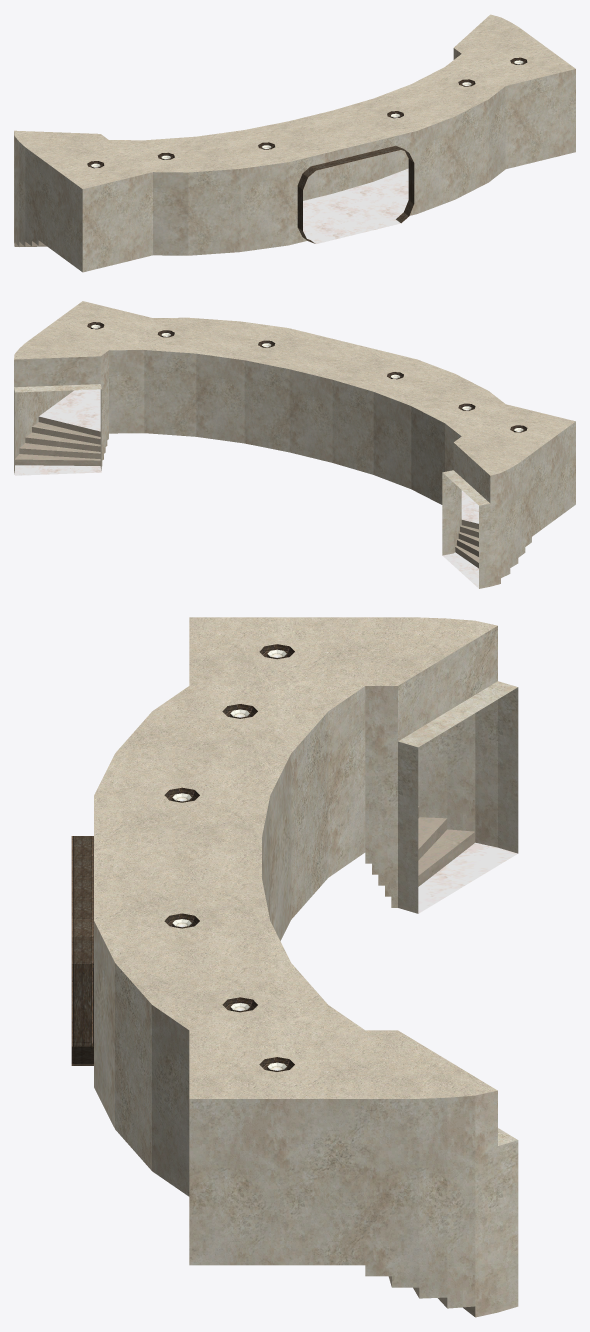
The model's file is ply_tato_cantina_s01_r1_foyer_mesh.fbx.
3 renders of one model, top to bottom at view 1: azimuth 30°, elevation 25°; view 2: azimuth 150°, elevation 25°; view 3: azimuth 270°, elevation 25°, orthographic. The views are drawn at different scales.
Visible parts, largest first — view 1: mesh_node; view 2: mesh_node; view 3: mesh_node.
Boxes of the visible parts, x1,y1,x2,y2 form: mesh_node: [14, 14, 575, 272]; mesh_node: [14, 301, 575, 588]; mesh_node: [71, 617, 518, 1317].
Bounding box in the file's own units: 18.6 × 4 × 7.29.
